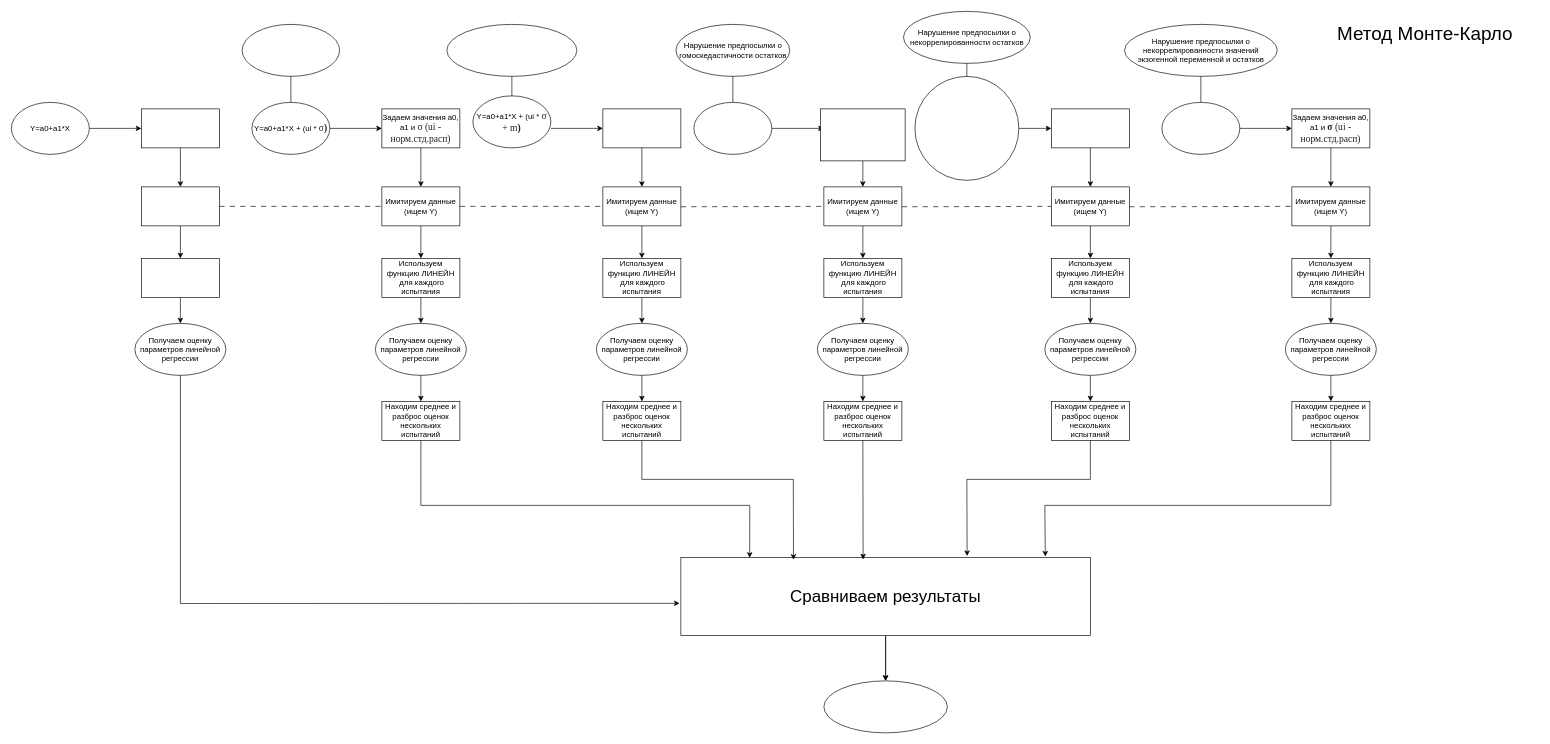
The diagram is 1550 pixels wide and 744 high, and some of its shapes have lost their labels. Here are the shapes that lost their labels. From the top down, the box of each, then its label:
(241, 24, 340, 76): Выполнение всех предпосылок теоремы Гаусса-Маркова
(446, 24, 577, 76): Нарушение предпосылки о нулевом математическом ожидании остатков
(141, 108, 219, 148): Задаем значения a0 и a1
(602, 108, 681, 148): Задаем значения a0, a1 и σ и m (ui - норм.стд.расп)
(693, 102, 772, 154): Y=a0+a1*X + (ui * σ * i)
(820, 108, 905, 161): Задаем значения a0, a1 и σ (i = 1-100) (ui - норм.стд.расп)
(914, 76, 1019, 180): Y=a0+a1*X + (ui * σ) при i = 1 Y=a0 + a1*X + (d*Ui-1 + c * ui) при i = 2,3,...
(1051, 108, 1129, 148): Задаем значения a0, a1 и σ, d, c (ui - норм.стд.расп)
(1161, 102, 1240, 154): Y=a0+a1*(X*ui) + (ui * σ)
(141, 186, 219, 226): Находим значения для Y1-Y100 (используя X1-X100)
(141, 258, 219, 297): Используем функцию ЛИНЕЙН
(823, 680, 947, 733): Делаем вывод
